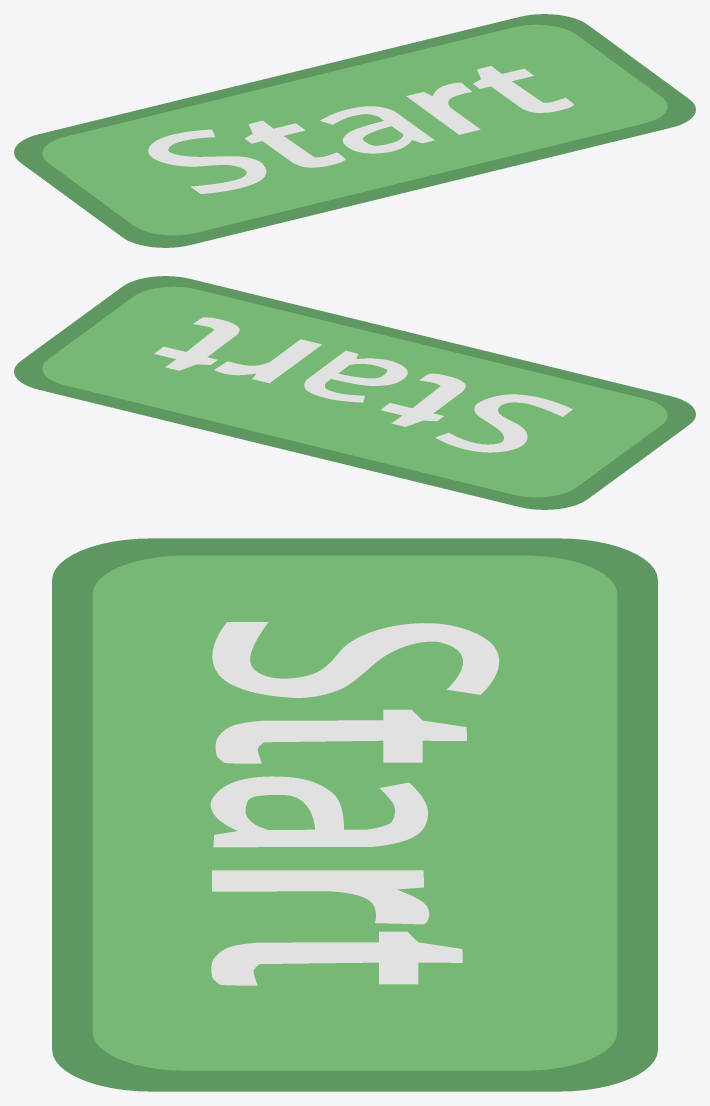
The model's file is 無STTTTTTTTTTTTTTTTART.fbx.
3 renders of one model, top to bottom at view 1: azimuth 30°, elevation 25°; view 2: azimuth 150°, elevation 25°; view 3: azimuth 270°, elevation 25°, orthographic. The views are drawn at different scales.
Parts seen in each view (by area): view 1: Curve.001, Curve, Curve.008, Curve.002, Curve.007, Curve.005, Curve.003, Curve.006, Curve.004; view 2: Curve.001, Curve, Curve.008, Curve.002, Curve.007, Curve.005, Curve.003, Curve.006, Curve.004; view 3: Curve.001, Curve, Curve.008, Curve.007, Curve.002, Curve.005, Curve.003, Curve.006, Curve.004.
Part boxes in pixels (left/top/right/bottom): Curve.001: left=42, top=24, right=667, bottom=235; Curve: left=14, top=14, right=695, bottom=247; Curve.008: left=148, top=129, right=266, bottom=193; Curve.002: left=473, top=66, right=573, bottom=112; Curve.007: left=245, top=120, right=345, bottom=167; Curve.005: left=320, top=106, right=434, bottom=143; Curve.003: left=406, top=92, right=480, bottom=134; Curve.006: left=342, top=121, right=412, bottom=153; Curve.004: left=429, top=82, right=471, bottom=110; Curve.001: left=42, top=286, right=667, bottom=497; Curve: left=14, top=276, right=695, bottom=509; Curve.008: left=435, top=394, right=572, bottom=452; Curve.002: left=154, top=317, right=239, bottom=370; Curve.007: left=380, top=373, right=465, bottom=426; Curve.005: left=304, top=350, right=364, bottom=402; Curve.003: left=252, top=339, right=321, bottom=383; Curve.006: left=331, top=358, right=407, bottom=385; Curve.004: left=214, top=361, right=283, bottom=375; Curve.001: left=92, top=555, right=617, bottom=1070; Curve: left=52, top=538, right=657, bottom=1091; Curve.008: left=212, top=622, right=499, bottom=697; Curve.007: left=215, top=709, right=466, bottom=763; Curve.002: left=211, top=931, right=462, bottom=985; Curve.005: left=213, top=782, right=427, bottom=847; Curve.003: left=212, top=870, right=423, bottom=891; Curve.006: left=210, top=776, right=343, bottom=833; Curve.004: left=333, top=876, right=429, bottom=924.
Size of the model in its own units: 6.33 by 0.06 by 2.93.
